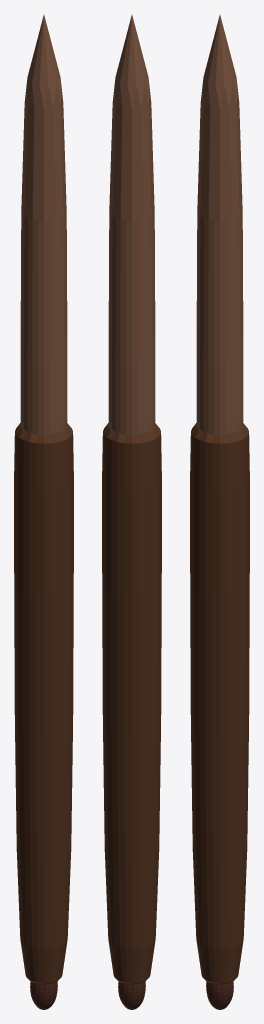
Rendered from Wand 6.glb.
3 renders of one model, left to right at view 1: azimuth 30°, elevation 25°; view 2: azimuth 210°, elevation 25°; view 3: azimuth 330°, elevation 25°, orthographic.
Parts seen in each view (by area): view 1: GeneratedWand; view 2: GeneratedWand; view 3: GeneratedWand.
Part boxes in pixels (bbox=[...]): GeneratedWand: bbox=[14, 15, 73, 1009]; GeneratedWand: bbox=[102, 15, 161, 1009]; GeneratedWand: bbox=[190, 15, 249, 1009].
Size of the model in its own units: 0.0273 by 0.5009 by 0.0273.
